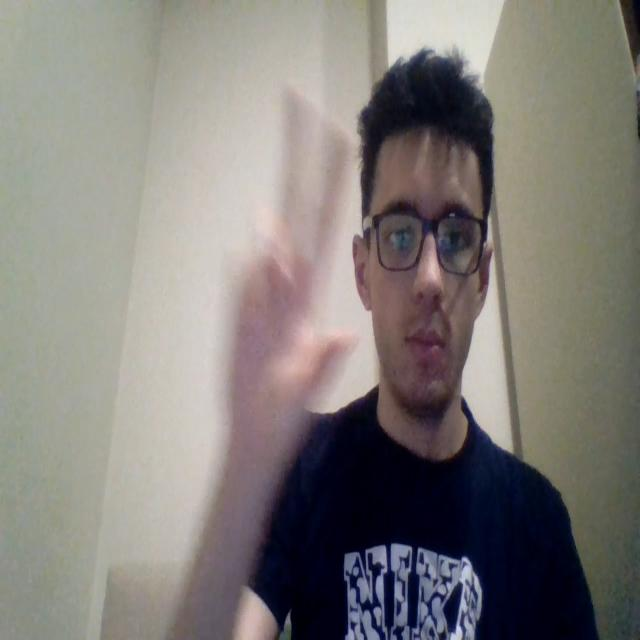no: (225, 84, 361, 478)
